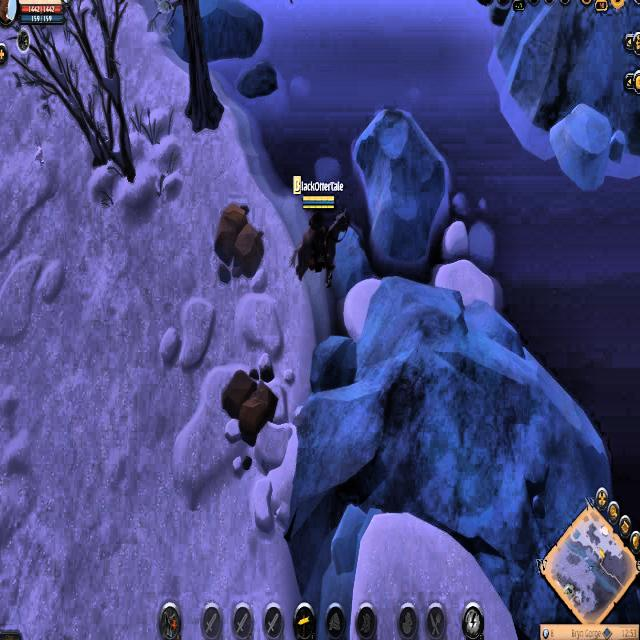limestone: (220, 366, 279, 449), (213, 199, 264, 285)
